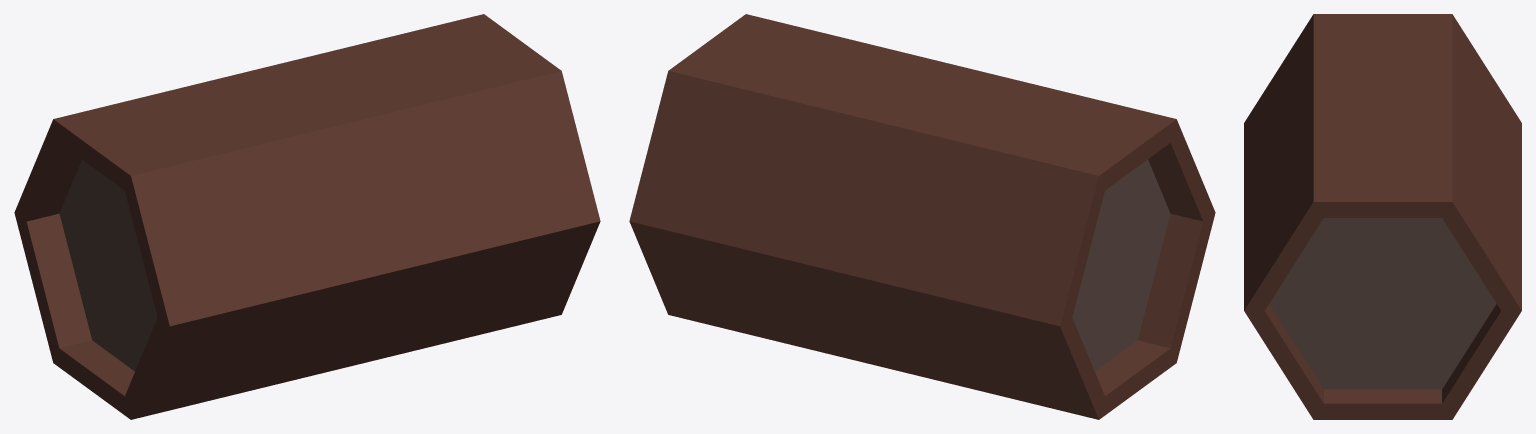
Rendered from LogMiddle.fbx.
3 views of the same model, side by side, from view 1: azimuth 30°, elevation 25°; view 2: azimuth 150°, elevation 25°; view 3: azimuth 270°, elevation 25° (orthographic). The views are drawn at different scales.
Parts seen in each view (by area): view 1: Cylinder; view 2: Cylinder; view 3: Cylinder.
Boxes of the visible parts, bbox=[...] form: Cylinder: bbox=[14, 14, 600, 419]; Cylinder: bbox=[629, 14, 1215, 419]; Cylinder: bbox=[1244, 14, 1521, 419].
Bounding box in the file's own units: 80 × 43.3 × 50.
